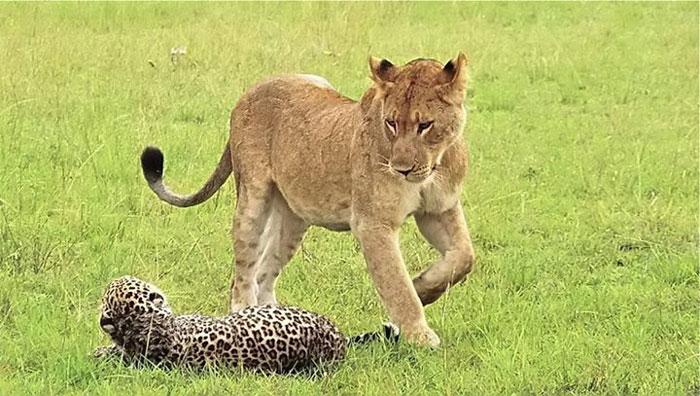leopard: (95, 271, 393, 376)
lion: (139, 52, 484, 366)
